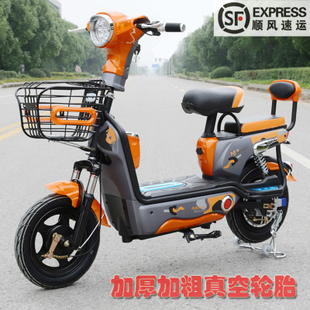电动车: (12, 10, 302, 288)
